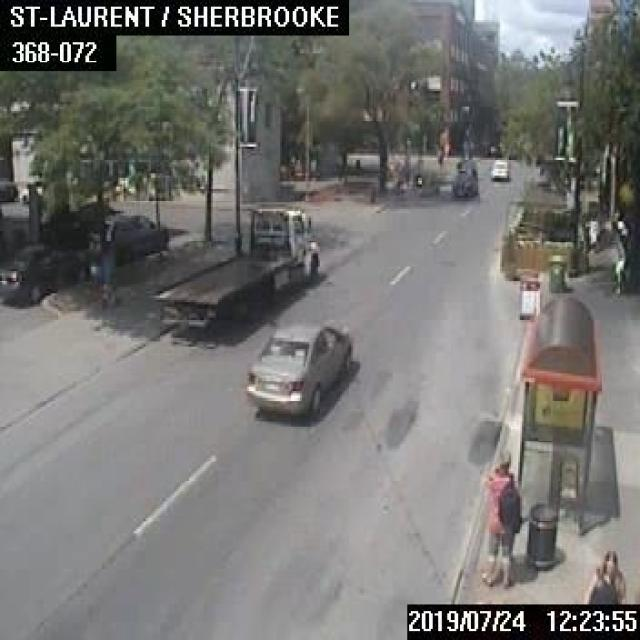pedestrian: (482, 446, 518, 584), (580, 547, 627, 602), (87, 227, 115, 312), (610, 220, 628, 292)
vehicle: (149, 204, 318, 326), (244, 321, 351, 414), (0, 239, 89, 303), (85, 211, 168, 263), (450, 157, 476, 195), (402, 164, 436, 193), (18, 177, 42, 201), (489, 158, 507, 178)
